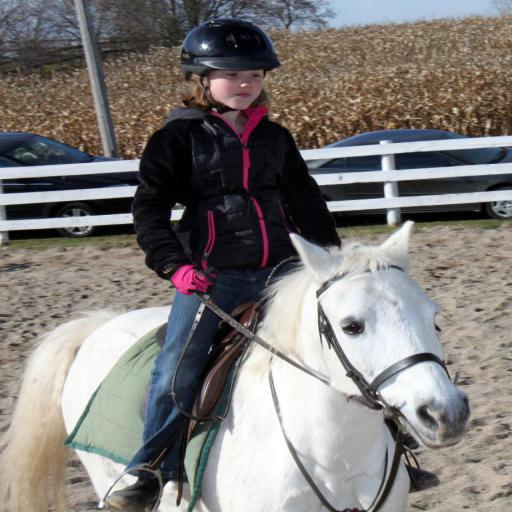horse: (0, 221, 472, 512)
